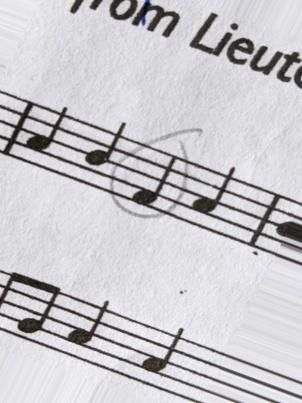A: (190, 162, 237, 240), (65, 296, 112, 371), (141, 325, 186, 397), (25, 102, 68, 174)
B: (83, 121, 129, 210)
F: (128, 138, 183, 223)
